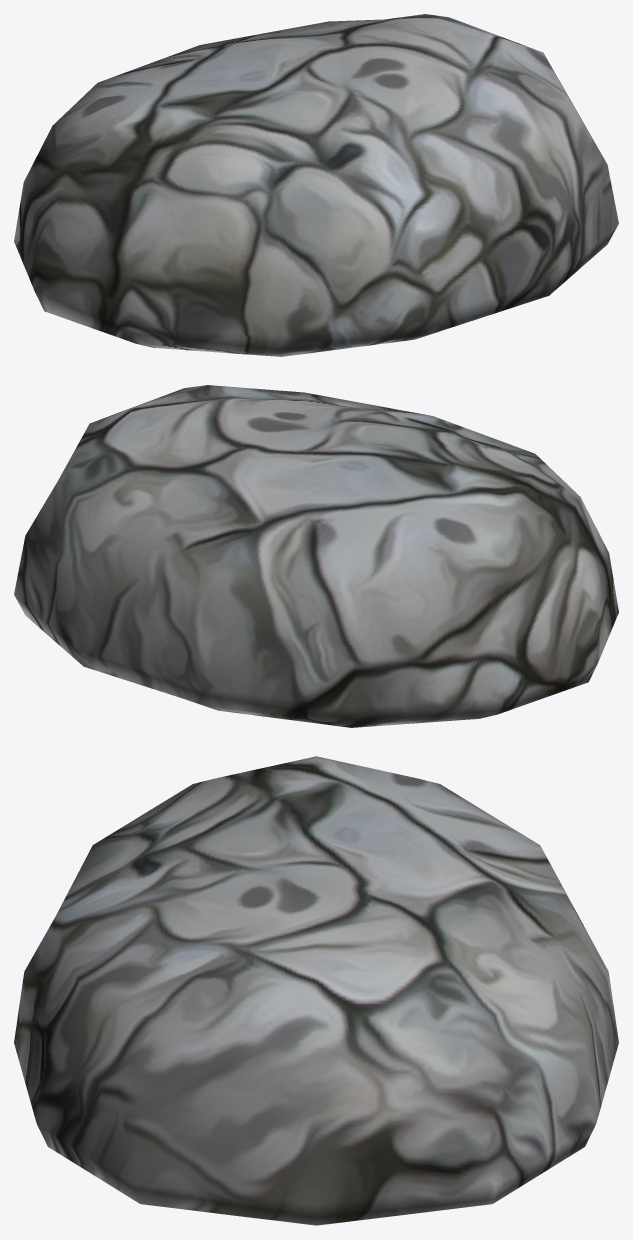
The model's file is Stone_03.fbx.
3 views of the same model, one above another, from view 1: azimuth 30°, elevation 25°; view 2: azimuth 150°, elevation 25°; view 3: azimuth 270°, elevation 25° (orthographic). The views are drawn at different scales.
Visible parts, largest first — view 1: Stone_03; view 2: Stone_03; view 3: Stone_03.
Boxes of the visible parts, x1,y1,x2,y2 form: Stone_03: (14, 14, 618, 356); Stone_03: (14, 385, 618, 727); Stone_03: (14, 756, 618, 1225).
Bounding box in the file's own units: 38.71 × 12.59 × 30.56.
